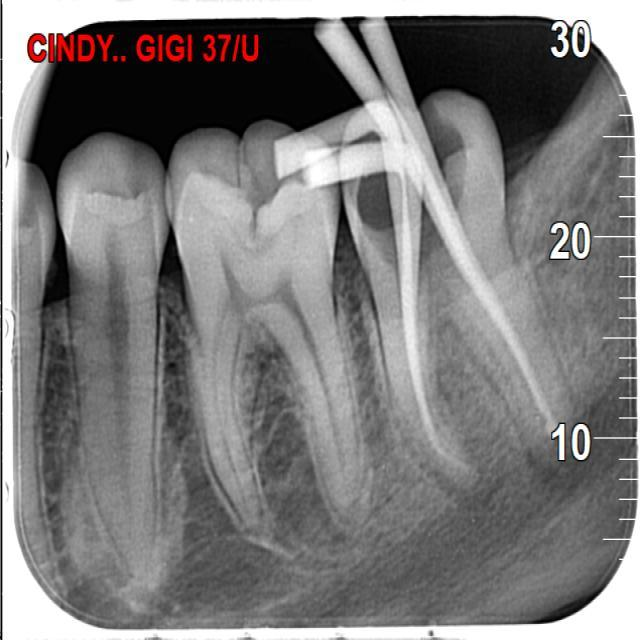individual-tooth-8tto: (341, 96, 576, 494), (162, 118, 363, 535), (62, 130, 176, 575)
